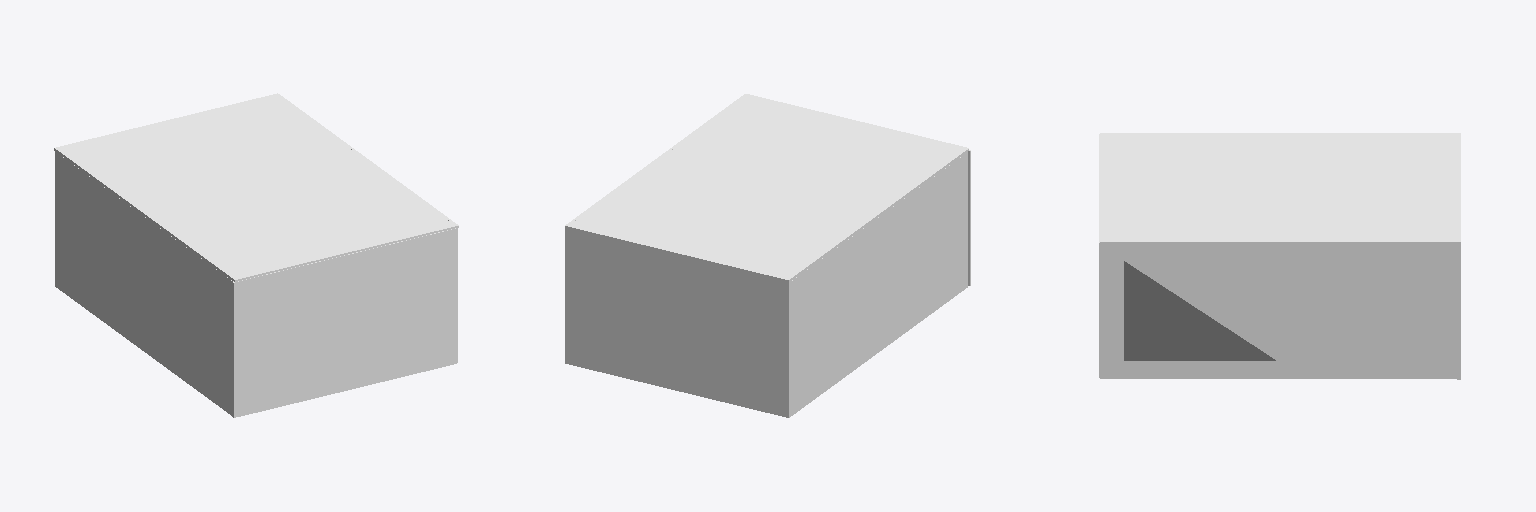
File: apartament.obj
3 renders of one model, left to right at view 1: azimuth 30°, elevation 25°; view 2: azimuth 150°, elevation 25°; view 3: azimuth 270°, elevation 25°, orthographic.
Visible parts, largest first — view 1: group43 pasted__pCube1, group43 pasted__pasted__pasted__pasted__pasted__pasted__pasted__, group43 pasted__pasted__pasted__pasted__pCube1; view 2: group43 pasted__pCube1, group43 pasted__pasted__group19_pasted__pasted__pasted__group9_p, group43 pasted__pasted__pasted__pasted__pCube1; view 3: group43 pasted__pasted__pasted__pCube1, group43 pasted__pCube1, group43 pasted__pasted__pasted__pasted__pasted__pasted__pCube1, group43 pasted__pasted__group19_pasted__pasted__pasted__group9_p.
Part boxes in pixels (x1,y1,x2,y2): group43 pasted__pCube1: (54,93,458,281); group43 pasted__pasted__pasted__pasted__pasted__pasted__pasted__: (232,228,457,417); group43 pasted__pasted__pasted__pasted__pCube1: (56,152,232,415); group43 pasted__pCube1: (565,94,968,282); group43 pasted__pasted__group19_pasted__pasted__pasted__group9_p: (565,229,789,417); group43 pasted__pasted__pasted__pasted__pCube1: (790,152,967,416); group43 pasted__pasted__pasted__pCube1: (1101,241,1458,378); group43 pasted__pCube1: (1100,133,1460,244); group43 pasted__pasted__pasted__pasted__pasted__pasted__pCube1: (1124,261,1275,360); group43 pasted__pasted__group19_pasted__pasted__pasted__group9_p: (1457,245,1460,379).
Size of the model in its own units: 1043 by 609 by 1449.